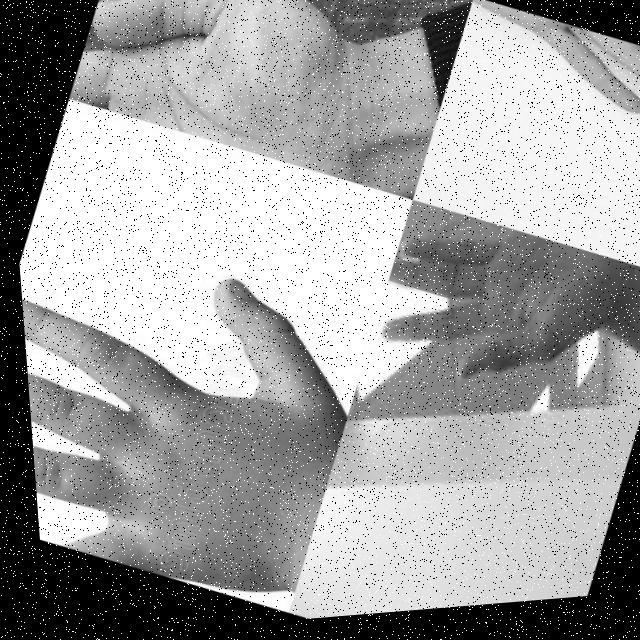no-gloves: (13, 199, 386, 632), (60, 0, 427, 210), (350, 192, 638, 446), (429, 0, 640, 220)
